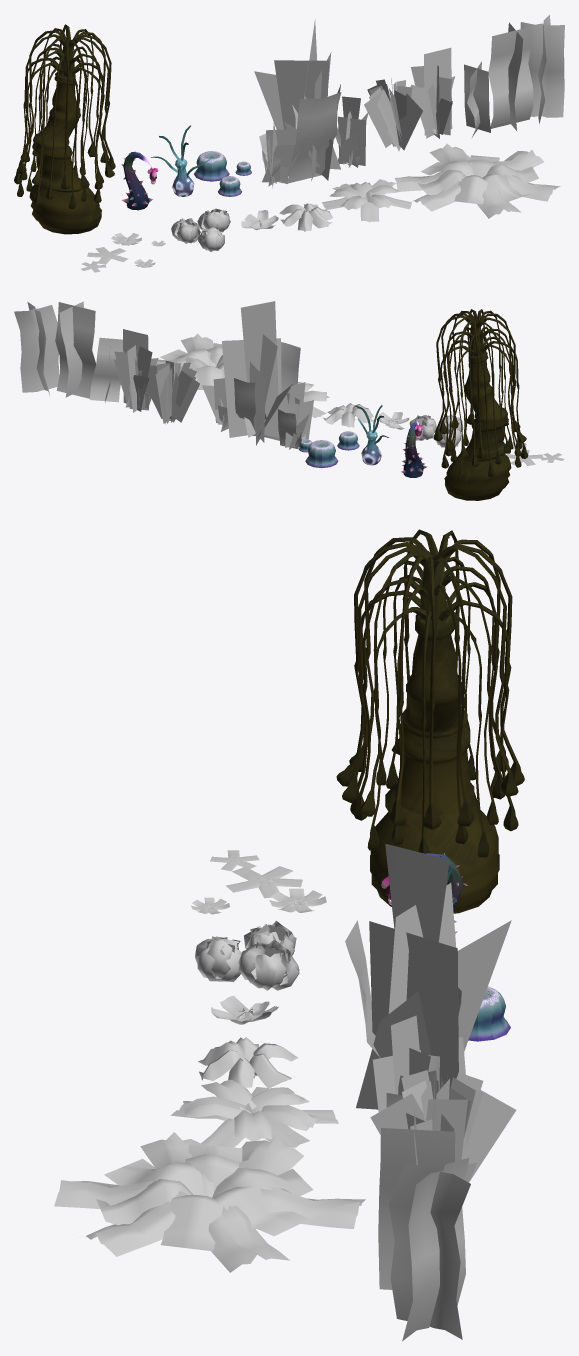
The model's file is alienPlantLife_edit_for_FBX.fbx.
The picture shows the model from 3 angles, top to bottom: view 1: azimuth 30°, elevation 25°; view 2: azimuth 150°, elevation 25°; view 3: azimuth 270°, elevation 25°; orthographic projection. The views are drawn at different scales.
Parts seen in each view (by area): view 1: plants01, plants06, plants18, plants11, plants12, plants09, plants08, plants17, plants07, plants14, plants05, plants10 (+6 smaller); view 2: plants01, plants06, plants11, plants12, plants08, plants09, plants18, plants05, plants10, plants04, plants02, plants07 (+6 smaller); view 3: plants01, plants18, plants06, plants12, plants17, plants08, plants14, plants11, plants13, plants07, plants16, plants09 (+2 smaller).
Boxes of the visible parts, x1,y1,x2,y2 form: plants01: (14,24,115,234); plants06: (254,19,341,183); plants18: (395,143,560,218); plants11: (488,22,533,131); plants12: (520,15,564,123); plants09: (411,47,454,138); plants08: (364,78,422,151); plants17: (322,179,411,222); plants07: (335,96,368,167); plants14: (171,208,230,251); plants05: (259,121,298,188); plants10: (464,61,490,137); plants01: (433,309,528,500); plants06: (222,301,300,445); plants11: (55,301,95,398); plants12: (14,301,59,395); plants08: (138,360,199,424); plants09: (113,329,158,412); plants18: (156,333,224,389); plants05: (277,382,313,449); plants10: (90,337,123,402); plants04: (299,431,359,468); plants02: (401,421,427,477); plants07: (202,378,228,431); plants01: (336,529,524,913); plants18: (54,1132,365,1272); plants06: (345,843,511,1109); plants12: (388,1158,470,1341); plants17: (170,1079,338,1147); plants08: (370,1070,516,1182); plants14: (195,920,299,990); plants11: (378,1108,455,1289); plants13: (191,850,326,928); plants07: (372,1015,439,1111); plants16: (198,1037,298,1088); plants09: (406,1075,476,1182).
Bounding box in the file's own units: 4702 × 1659 × 1919.
